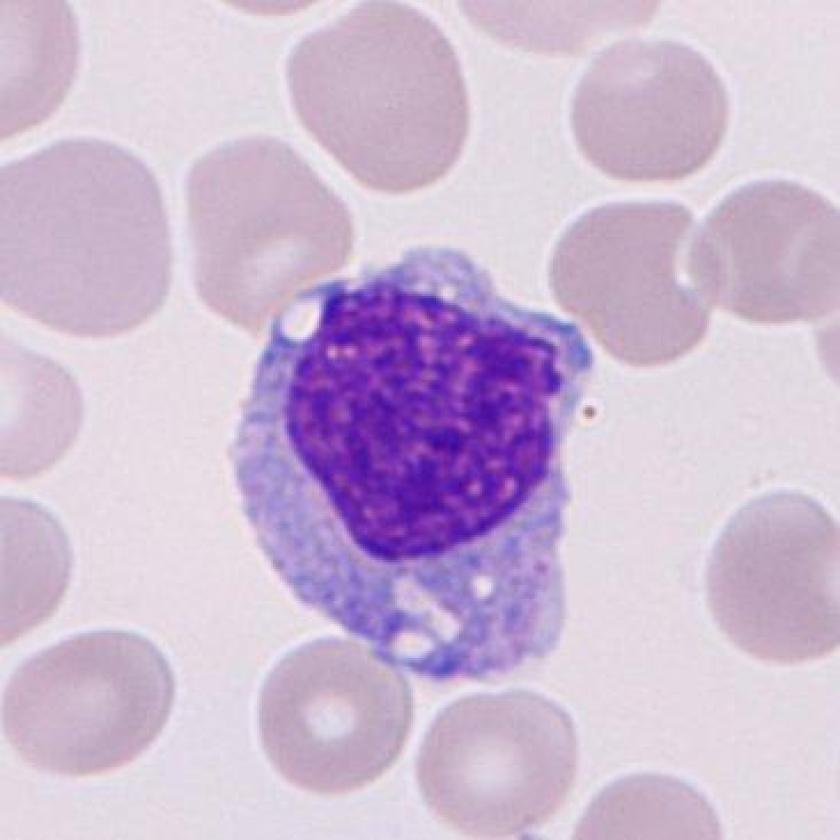monocyte: (212, 226, 607, 707)
